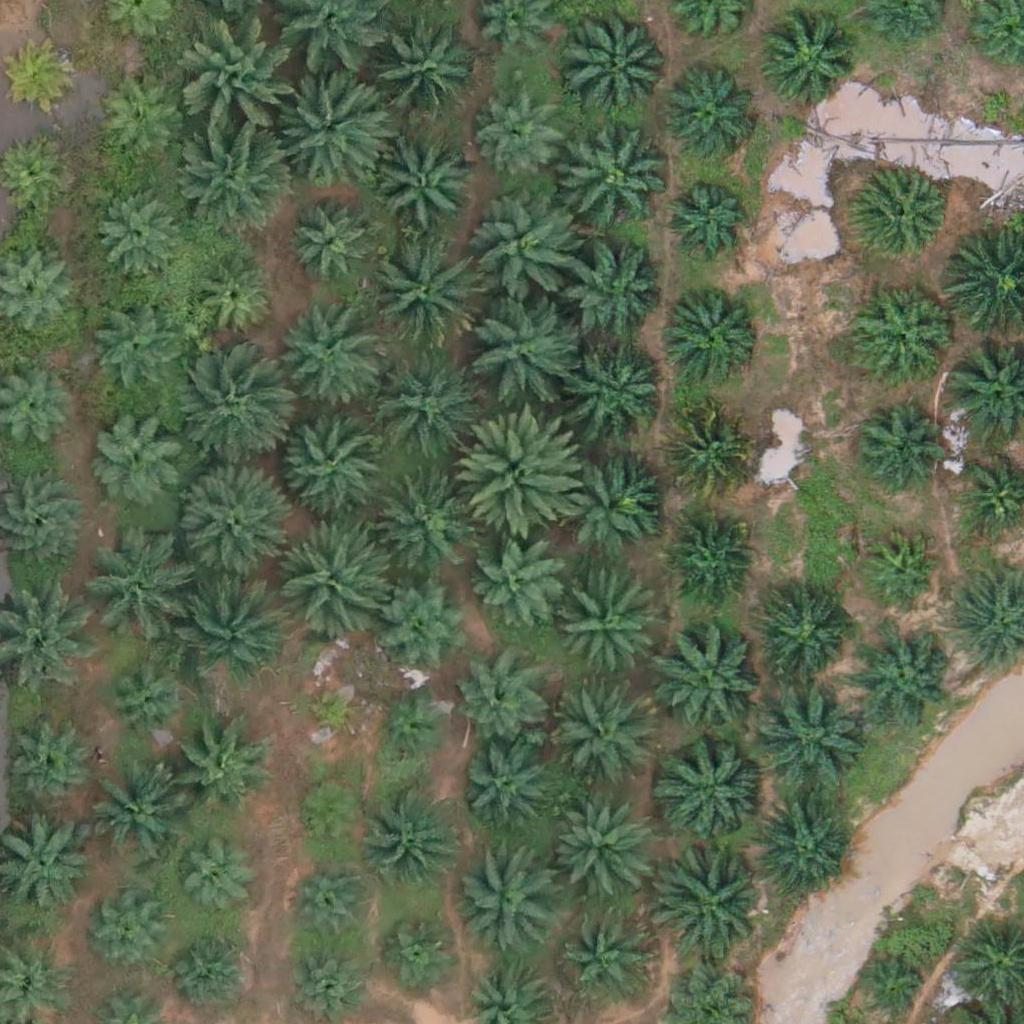Kelapa_Sawit: (461, 411, 586, 537), (463, 289, 576, 403), (364, 18, 477, 132), (752, 677, 865, 790), (653, 621, 766, 734), (657, 732, 770, 845), (365, 237, 478, 350), (369, 349, 482, 462), (276, 404, 389, 517), (173, 465, 286, 578), (557, 120, 670, 233), (180, 122, 293, 235), (470, 195, 583, 308), (173, 567, 285, 681), (563, 5, 675, 119), (186, 26, 298, 140), (656, 844, 768, 957), (269, 305, 381, 418), (274, 522, 386, 635), (171, 356, 283, 469), (276, 69, 388, 182), (751, 798, 851, 899), (663, 282, 763, 383), (570, 341, 670, 442), (556, 578, 656, 679), (551, 690, 651, 791), (547, 798, 647, 899), (373, 470, 473, 571), (375, 571, 475, 672), (167, 719, 267, 820), (81, 768, 181, 869), (81, 540, 181, 641), (758, 12, 858, 113), (376, 134, 476, 235), (366, 785, 466, 886), (854, 283, 954, 383), (857, 628, 957, 728), (565, 248, 665, 348), (555, 448, 655, 548), (458, 850, 558, 950), (88, 406, 188, 506), (852, 168, 952, 268), (660, 68, 760, 168), (851, 400, 939, 488), (762, 595, 850, 683), (662, 406, 750, 494), (455, 658, 543, 746), (188, 255, 276, 343), (102, 657, 190, 745), (661, 175, 749, 263), (288, 200, 376, 288), (96, 79, 184, 167), (458, 745, 545, 834), (88, 305, 175, 394), (665, 514, 752, 602), (565, 916, 652, 1004), (473, 538, 560, 626), (290, 860, 377, 948), (7, 726, 94, 814), (479, 94, 566, 182), (95, 188, 182, 276), (173, 843, 248, 919), (175, 931, 250, 1007), (374, 691, 449, 767), (863, 531, 938, 607), (293, 778, 368, 854), (5, 38, 80, 114), (381, 913, 456, 988), (93, 898, 168, 973), (300, 679, 362, 742)
